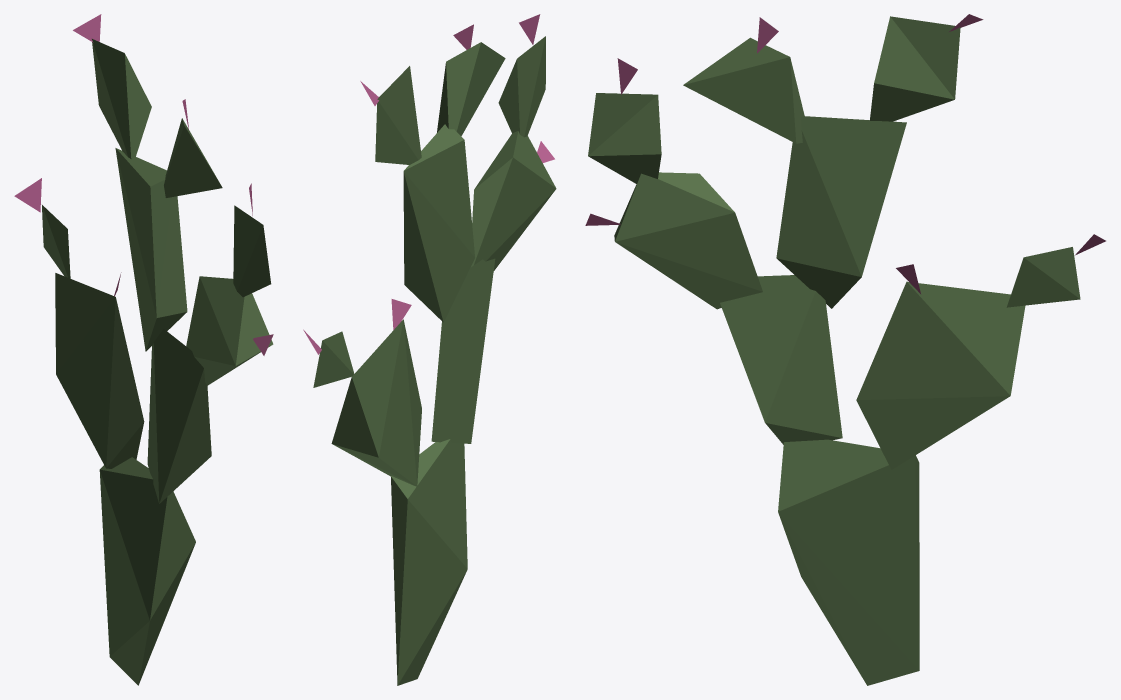
Rendered from CactusFlowers_4.lod3.glb.
3 views of the same model, side by side, from view 1: azimuth 30°, elevation 25°; view 2: azimuth 150°, elevation 25°; view 3: azimuth 270°, elevation 25° (orthographic). The views are drawn at different scales.
Visible parts, largest first — view 1: CactusFlowers_4; view 2: CactusFlowers_4; view 3: CactusFlowers_4.
Boxes of the visible parts, x1,y1,x2,y2 form: CactusFlowers_4: (14, 14, 273, 685); CactusFlowers_4: (303, 14, 556, 685); CactusFlowers_4: (585, 14, 1105, 685).
Size of the model in its own units: 0.1076 by 1.39 by 0.9669.
